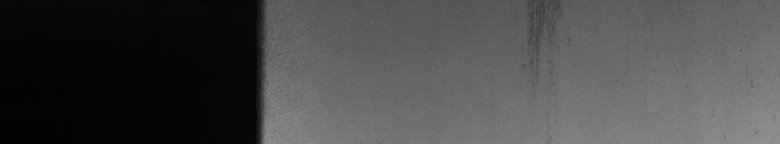ka: (522, 4, 571, 70)
